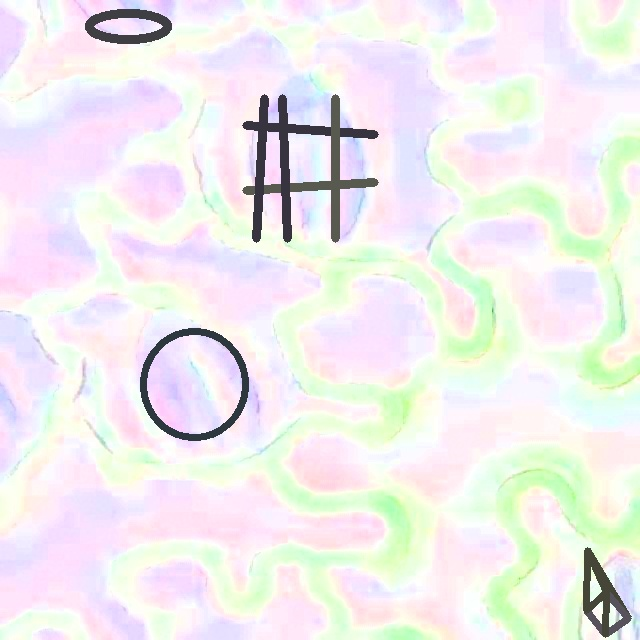open: (242, 95, 377, 242), (139, 327, 249, 441), (583, 548, 630, 637), (85, 8, 171, 44)
